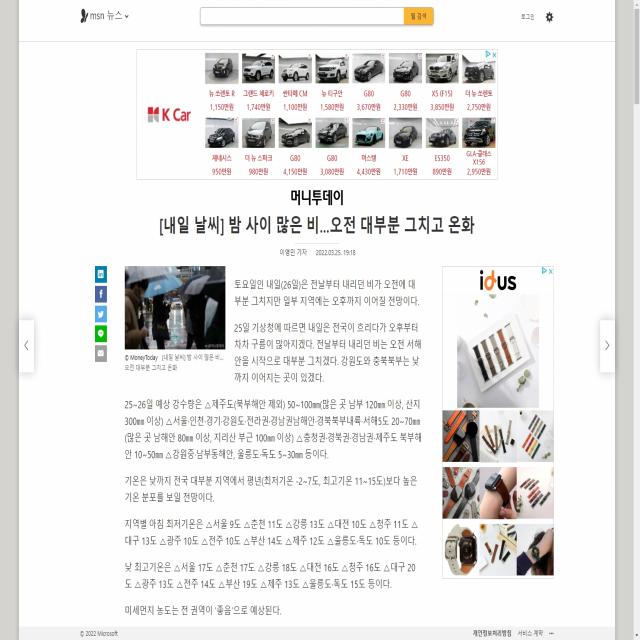menu-bar: (516, 4, 558, 30)
search: (197, 2, 436, 32)
